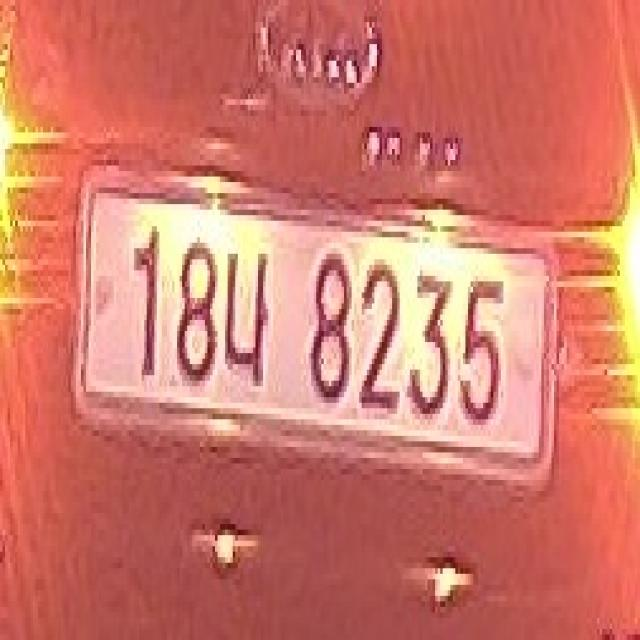1: (124, 215, 167, 397)
2: (357, 243, 402, 430)
3: (405, 248, 453, 431)
5: (458, 265, 506, 441)
8: (170, 220, 218, 402), (306, 243, 357, 414)
license_plate: (71, 149, 556, 513)
na: (220, 226, 276, 397)
